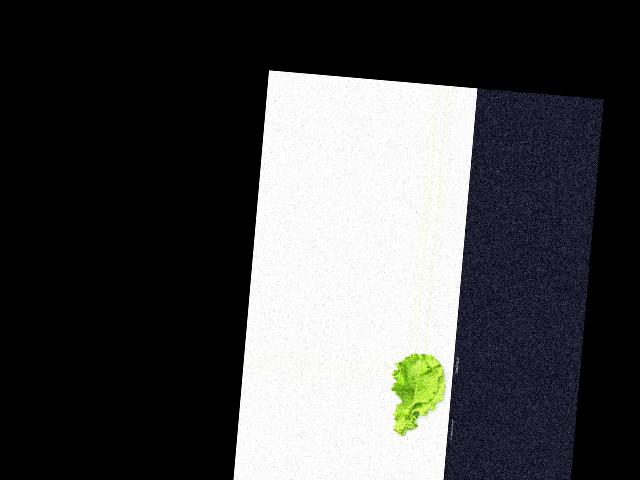lettuce: (386, 351, 452, 438)
